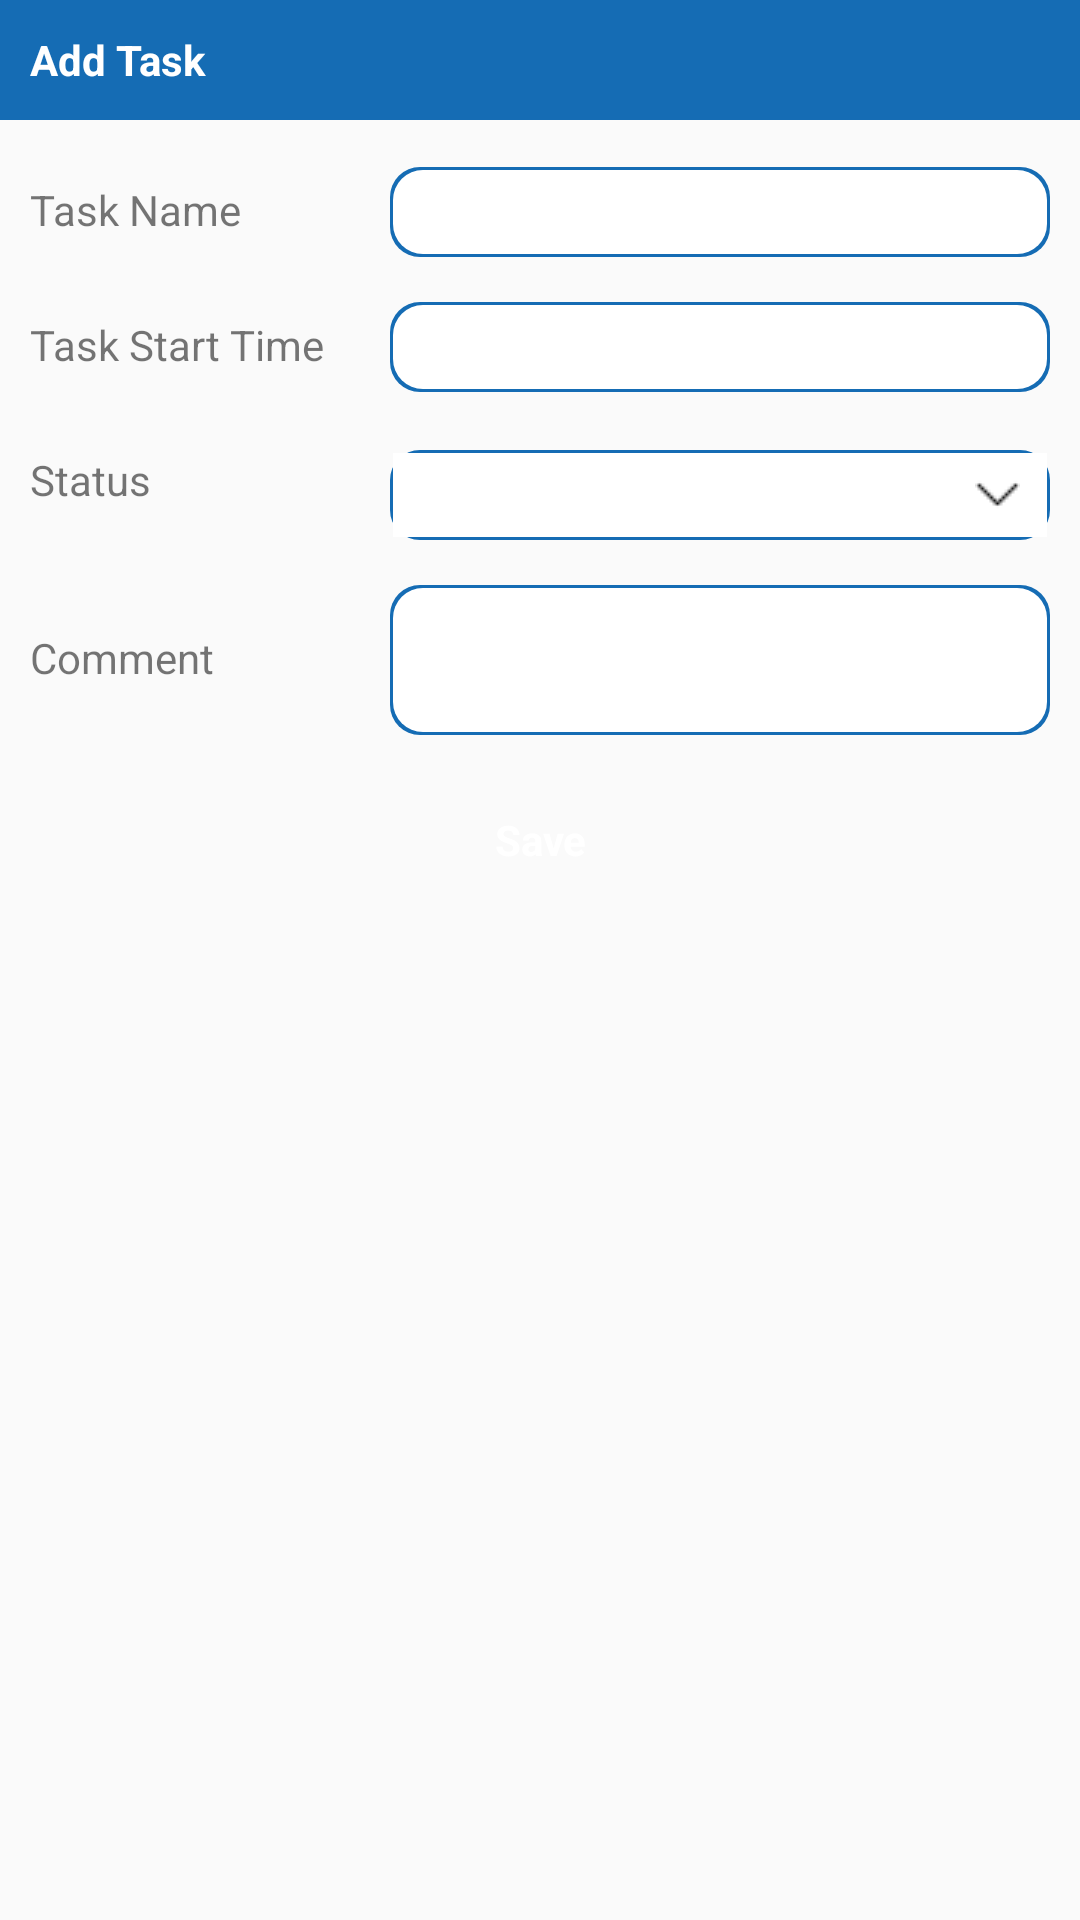

Screen size 1080x1920. Icon name, then its box in pixels as (x1, y1, x2, y2):
down arrow: (975, 483, 1020, 506)
